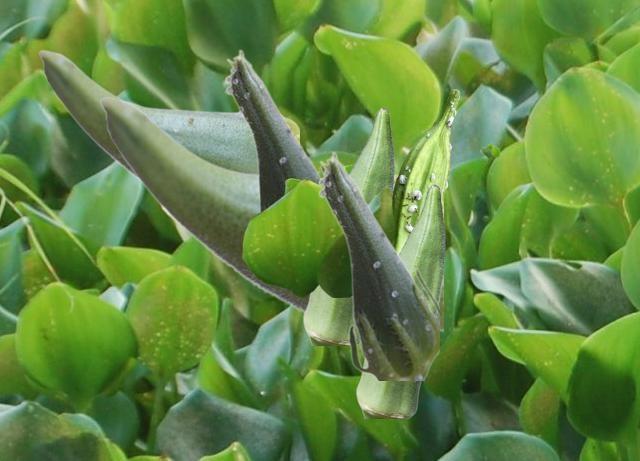okra: (99, 96, 442, 332), (38, 49, 298, 180), (317, 151, 438, 379), (303, 107, 393, 344), (356, 184, 444, 417), (224, 49, 323, 212), (393, 89, 459, 251)
